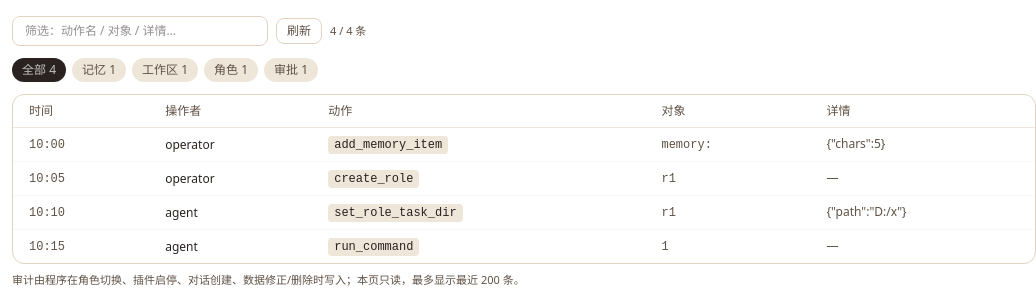
AuditPanel 分组筛选（2026-10-30 重设计） › pill 带条数且与筛选同源：点『记忆』只剩记忆行，再点取消回全部
Expected: the button "角色 1" is shown, left=204, top=58, right=258, bottom=82
Expected: the button "工作区 1" is shown, left=132, top=58, right=198, bottom=82
Click the button "记忆 1" at (99, 70), box left=72, top=58, right=126, bottom=82
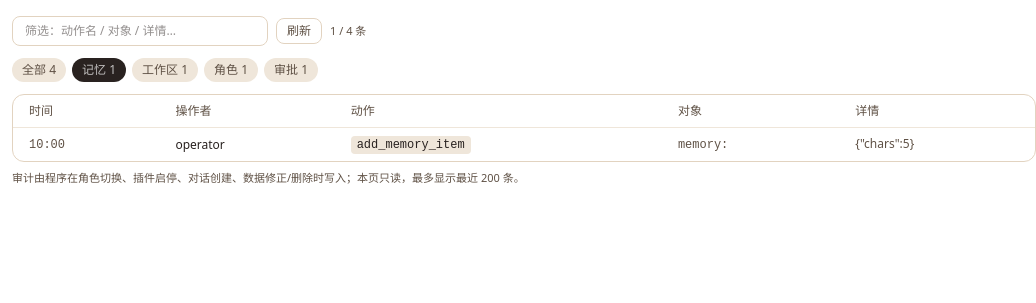
Expected: the text "add_memory_item" is shown, left=351, top=136, right=471, bottom=154
Result: the text "1 / 4 条" is shown at left=330, top=23, right=366, bottom=39
Result: the text "create_role" is gone
Click the button "记忆 1" at (99, 70), box left=72, top=58, right=126, bottom=82
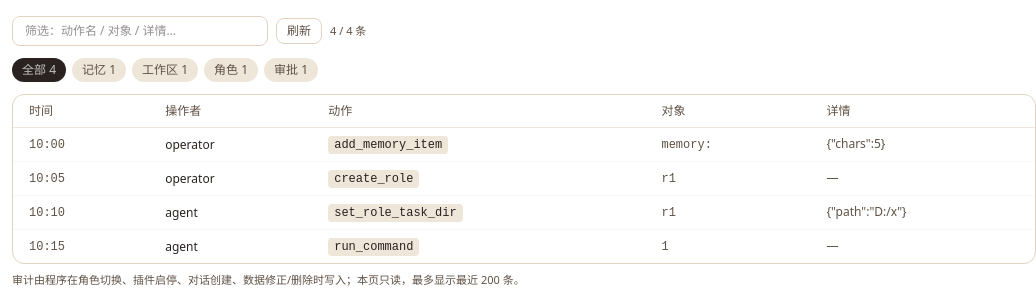
Result: the text "4 / 4 条" is shown at left=330, top=23, right=366, bottom=39
